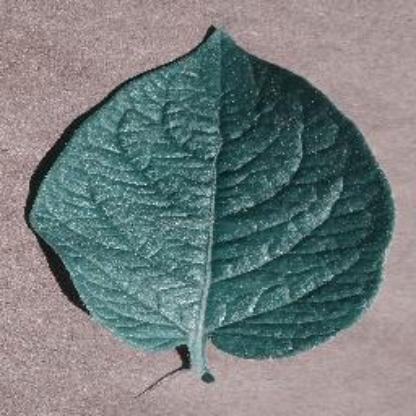Healthy-plant: (30, 27, 396, 379)
